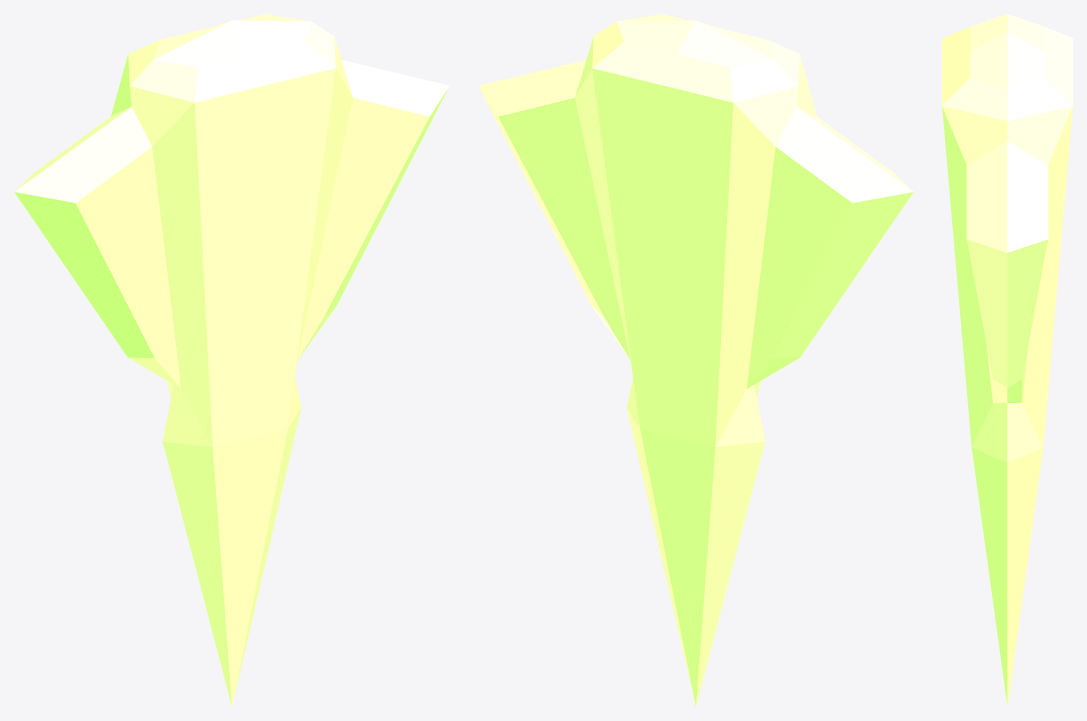
The model's file is marker.fbx.
3 renders of one model, left to right at view 1: azimuth 30°, elevation 25°; view 2: azimuth 150°, elevation 25°; view 3: azimuth 270°, elevation 25°, orthographic.
Parts seen in each view (by area): view 1: Cube; view 2: Cube; view 3: Cube.
Part boxes in pixels (x1,y1,x2,y2): Cube: (14,14,449,705); Cube: (478,14,913,705); Cube: (942,14,1072,706).
Bounding box in the file's own units: 204 × 307 × 54.
